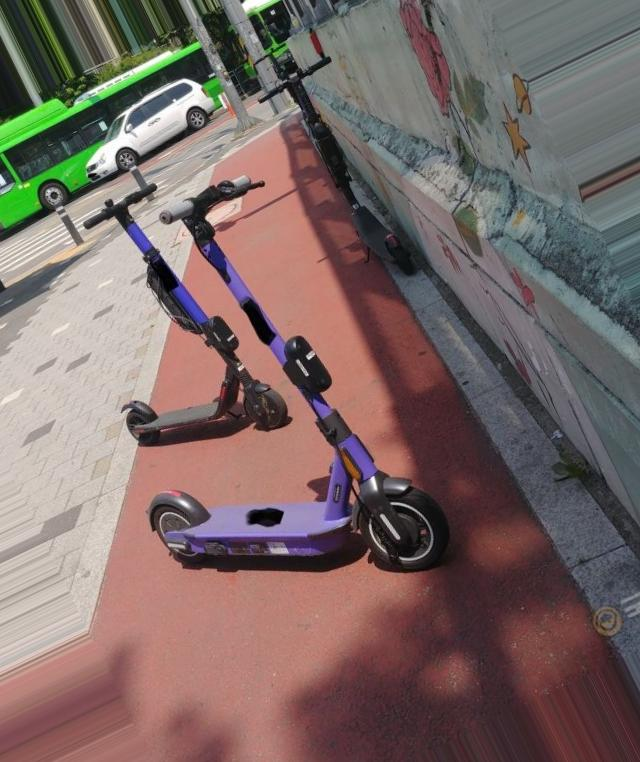scooter: (147, 175, 451, 576), (84, 181, 287, 448), (263, 54, 414, 276)
